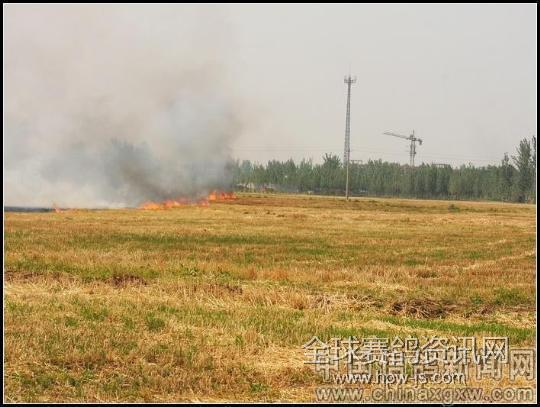fire: (131, 194, 193, 208), (198, 184, 235, 206)
